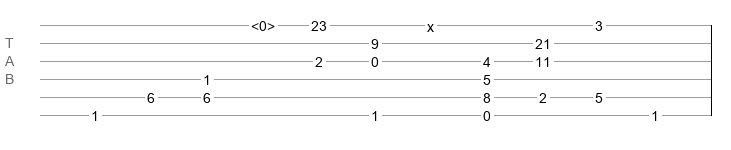0: (371, 54, 379, 64), (483, 108, 491, 118)
1: (91, 108, 99, 118), (203, 72, 211, 82), (371, 108, 379, 118), (651, 108, 659, 118)
11: (535, 54, 551, 64)
2: (315, 54, 323, 64), (539, 90, 547, 100)
21: (535, 36, 551, 46)
23: (311, 18, 327, 28)
3: (595, 18, 603, 28)
4: (483, 54, 491, 64)
5: (483, 72, 491, 82), (595, 90, 603, 100)
6: (147, 90, 155, 100), (203, 90, 211, 100)
8: (483, 90, 491, 100)
9: (371, 36, 379, 46)
harmonic: (251, 18, 275, 28)
x: (427, 19, 434, 27)
